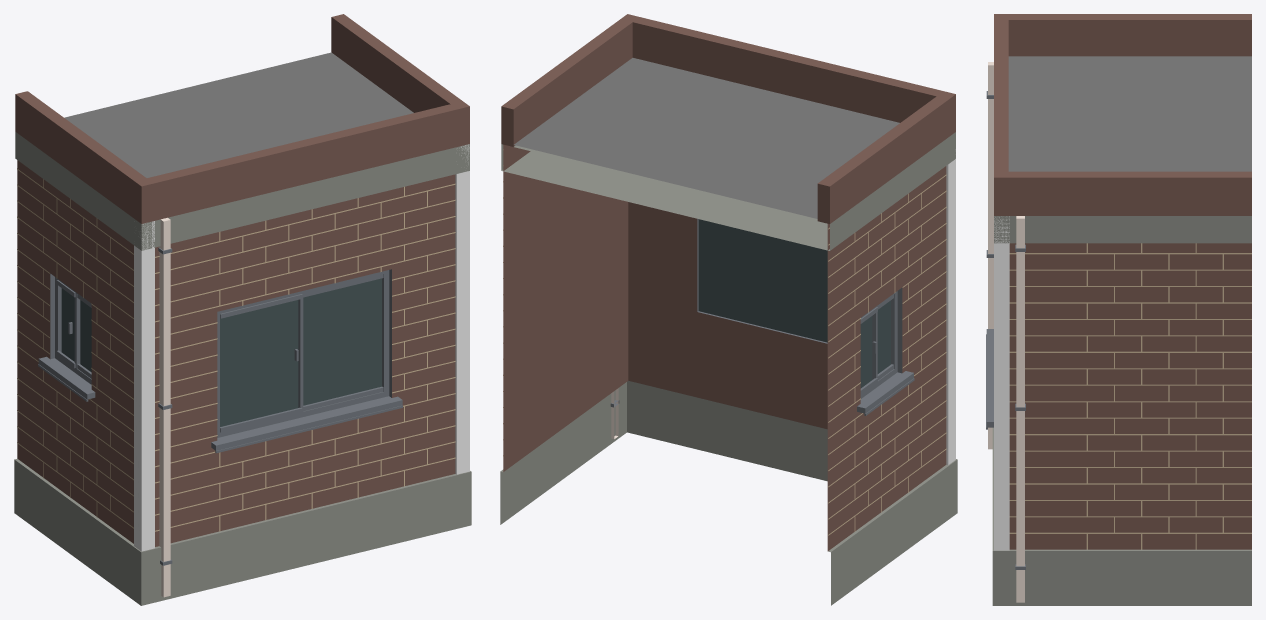
File: base-stair3_close.fbx
3 views of the same model, side by side, from view 1: azimuth 30°, elevation 25°; view 2: azimuth 150°, elevation 25°; view 3: azimuth 270°, elevation 25° (orthographic). The views are drawn at different scales.
Parts seen in each view (by area): view 1: a2000s2/0/base-stair_close; view 2: a2000s2/0/base-stair_close; view 3: a2000s2/0/base-stair_close.
Part boxes in pixels (<box>): a2000s2/0/base-stair_close: <box>14,14,471,605</box>; a2000s2/0/base-stair_close: <box>500,14,957,605</box>; a2000s2/0/base-stair_close: <box>986,14,1251,605</box>.
Bounding box in the file's own units: 3.33 × 3.9 × 2.2.
